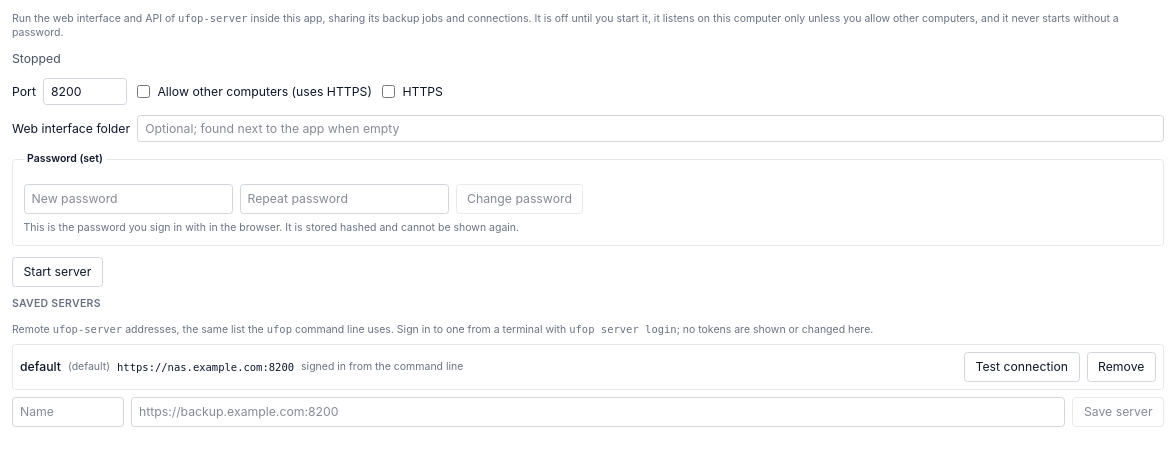
Local web server › shows why it could not start instead of pretending it runs
This screenshot has width=1176, height=468.
Expected: the message "Stopped" is shown, [12,51,61,66]
Click the button "Start server": [57, 272] box [12,256,103,286]
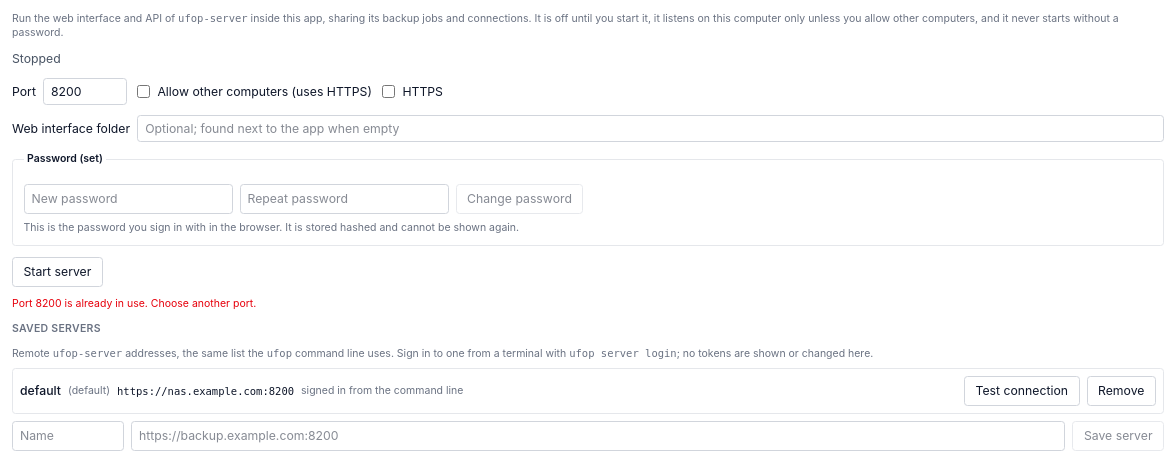
Expected: the message with test id "local-server-status" reads "Stopped", [12,51,61,66]
Now the message "Port 8200 is already in use. Choose another port." is shown, box [12,297,256,310]
